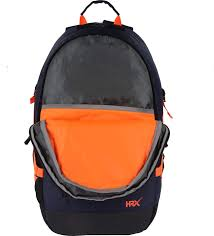backpack: (24, 0, 171, 235)
